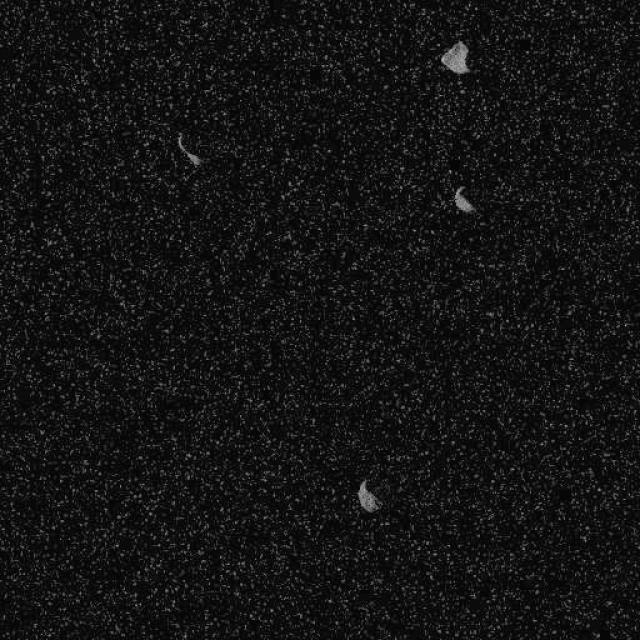D2: (439, 39, 471, 75), (356, 478, 382, 514), (175, 132, 201, 168), (452, 184, 477, 214)
